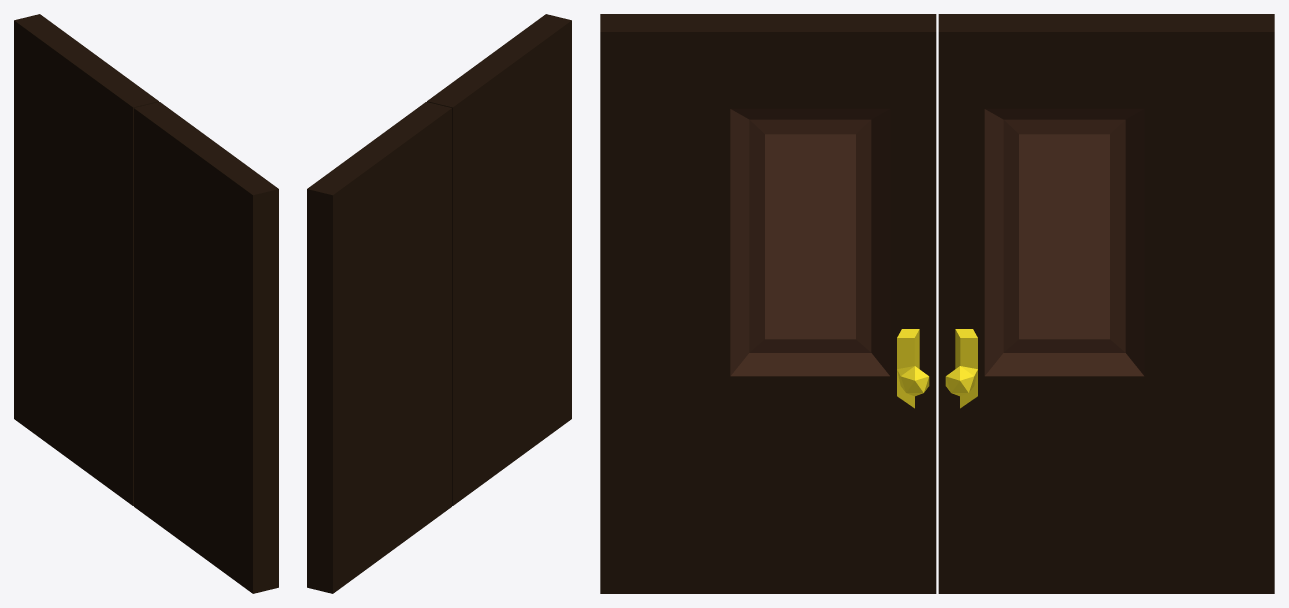
Rendered from doorTile.glb.
3 views of the same model, side by side, from view 1: azimuth 30°, elevation 25°; view 2: azimuth 150°, elevation 25°; view 3: azimuth 270°, elevation 25° (orthographic). The views are drawn at different scales.
Visible parts, largest first — view 1: Cube; view 2: Cube; view 3: Cube.
Part boxes in pixels (x1,y1,x2,y2): Cube: [14, 14, 278, 593]; Cube: [307, 14, 571, 593]; Cube: [600, 14, 1274, 593].
Size of the model in its own units: 0.2517 by 1.85 by 2.01.
1 material, 1 textured.
